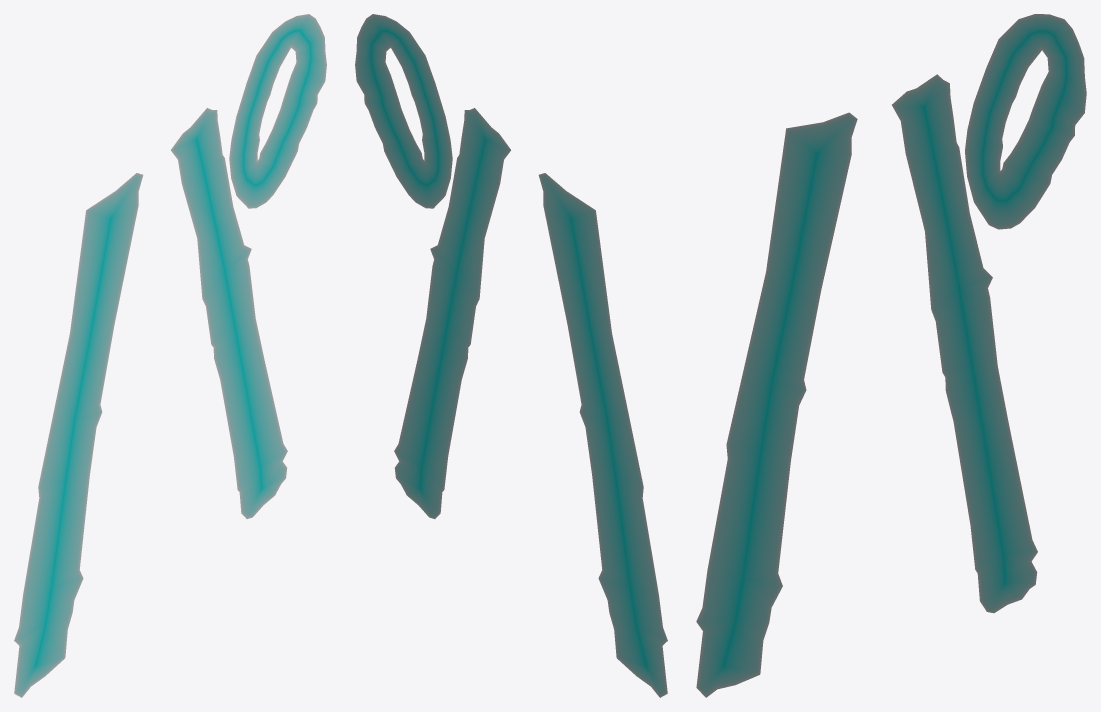
Rendered from SM_EFF_Text_D27NJ3_01.glb.
3 renders of one model, left to right at view 1: azimuth 30°, elevation 25°; view 2: azimuth 150°, elevation 25°; view 3: azimuth 330°, elevation 25°, orthographic. The views are drawn at different scales.
Visible parts, largest first — view 1: SM_EFF_Text_D27NJ3_01; view 2: SM_EFF_Text_D27NJ3_01; view 3: SM_EFF_Text_D27NJ3_01.
Boxes of the visible parts, x1,y1,x2,y2 form: SM_EFF_Text_D27NJ3_01: [14, 14, 326, 697]; SM_EFF_Text_D27NJ3_01: [355, 14, 667, 697]; SM_EFF_Text_D27NJ3_01: [696, 14, 1086, 697].
Bounding box in the file's own units: 1.42 × 2.67 × 1.64e-16.
